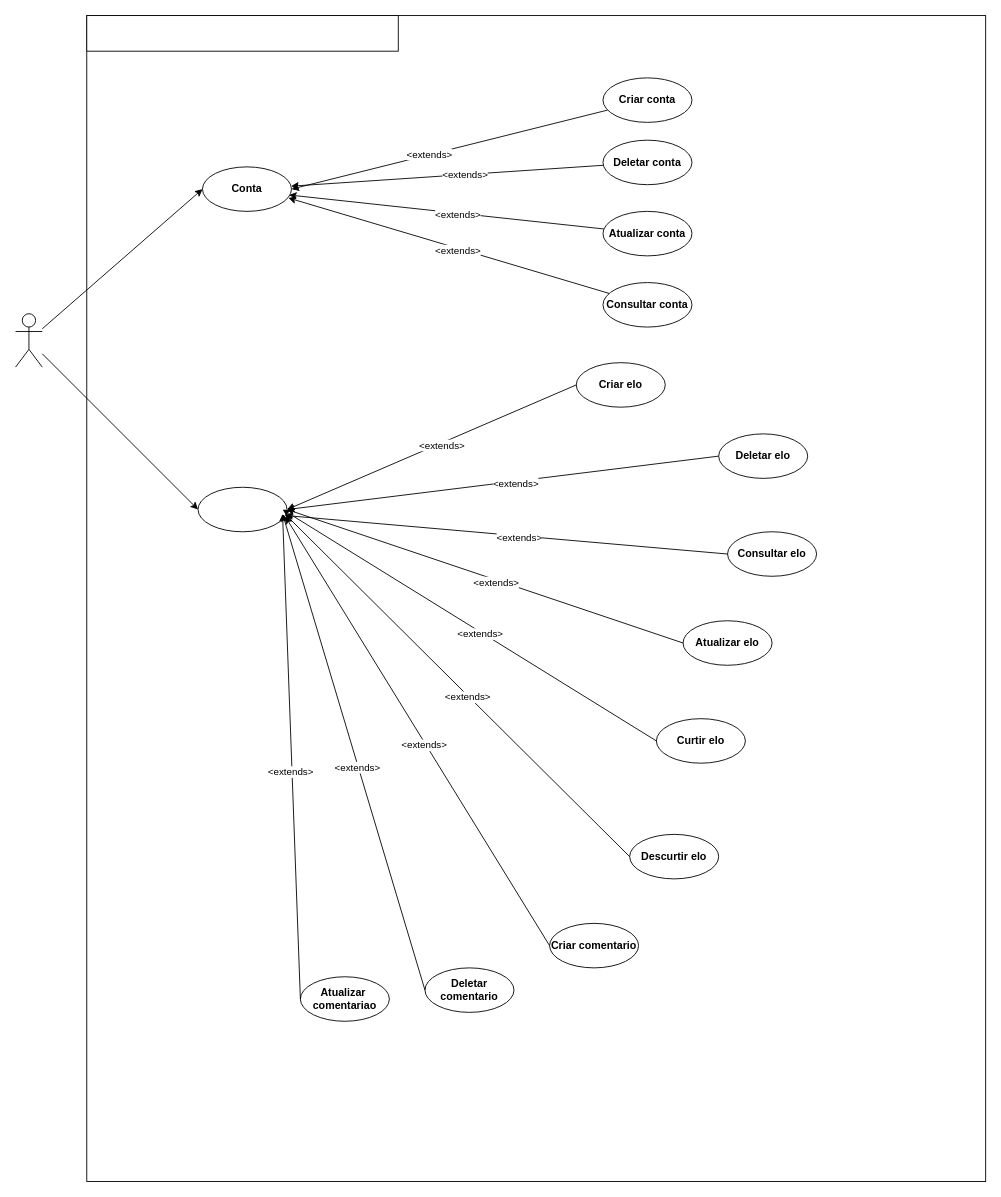
This 1001x1197 diagram has some shape labels left out. Here are the shapes that lost their labels. From the top down, the centre of each, then its label:
the point at 242,33: UC - 001
the point at 28,340: User
the point at 242,509: Elo
